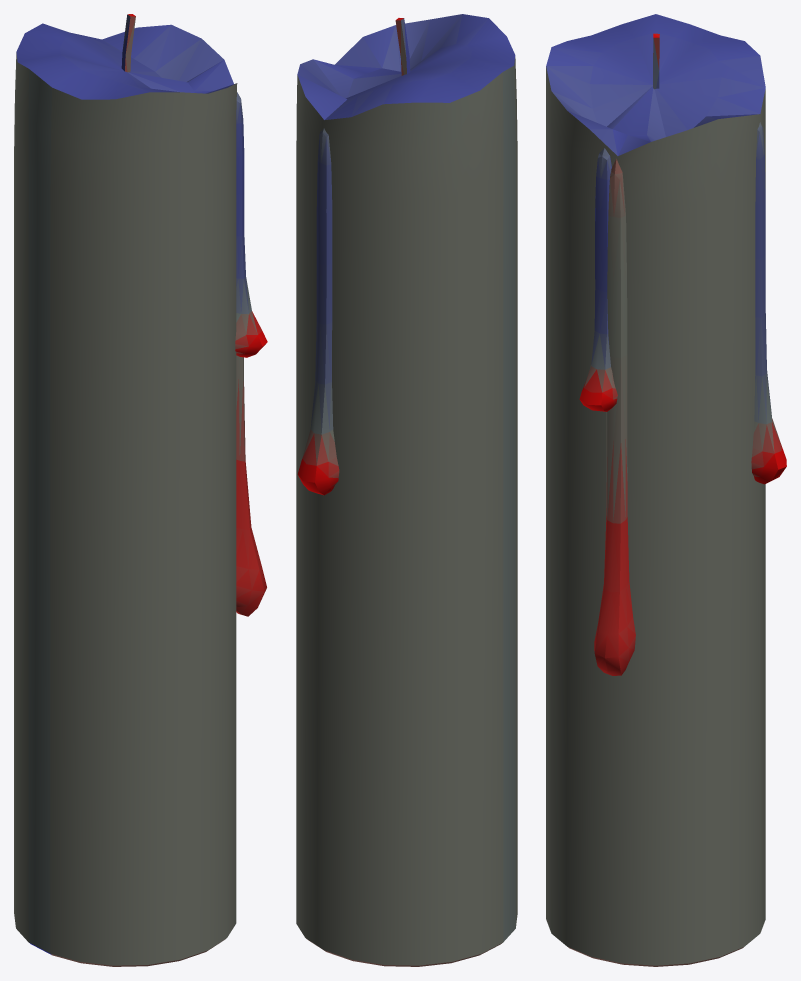
File: Candle.fbx
3 views of the same model, side by side, from view 1: azimuth 30°, elevation 25°; view 2: azimuth 150°, elevation 25°; view 3: azimuth 270°, elevation 25° (orthographic).
Parts seen in each view (by area): view 1: Candle; view 2: Candle; view 3: Candle.
Boxes of the visible parts, x1,y1,x2,y2 form: Candle: [14, 14, 267, 966]; Candle: [296, 14, 517, 966]; Candle: [546, 14, 786, 966].
Size of the model in its own units: 4.48 by 18.17 by 4.45.
